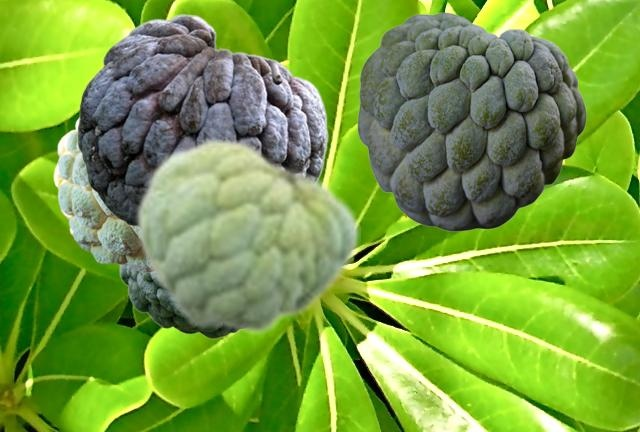atis: (77, 13, 327, 229), (357, 12, 585, 230), (133, 135, 359, 336), (53, 119, 147, 271), (119, 264, 235, 338)
